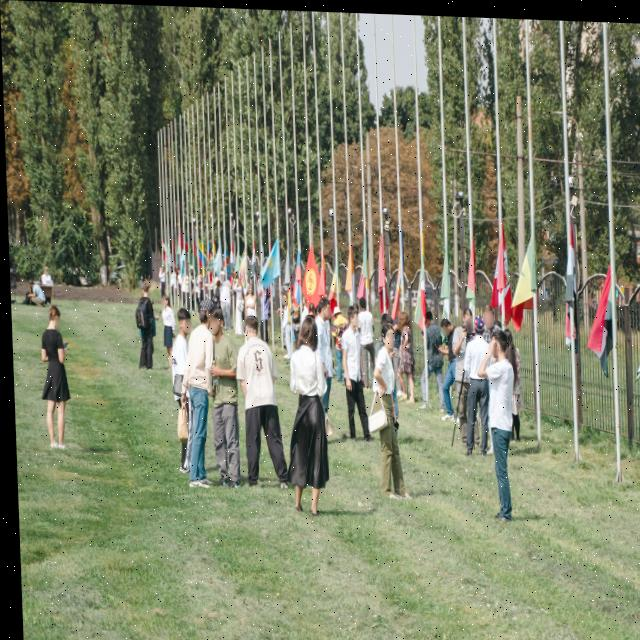Person: (282, 312, 330, 523), (175, 290, 220, 494), (235, 313, 280, 489), (482, 325, 515, 522), (161, 305, 197, 482), (32, 302, 71, 458), (208, 302, 239, 495), (373, 319, 406, 500), (308, 290, 337, 444), (336, 302, 367, 445), (462, 313, 487, 458), (434, 313, 464, 416), (418, 305, 444, 418), (353, 292, 378, 397), (392, 307, 416, 406), (134, 279, 158, 368), (213, 268, 232, 329), (158, 291, 174, 362), (277, 285, 292, 359), (230, 275, 246, 336), (241, 279, 258, 324), (25, 280, 46, 310), (155, 264, 168, 301), (376, 308, 397, 330), (482, 301, 495, 332), (185, 264, 197, 290), (174, 264, 186, 290)
